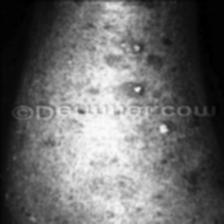Potentially Malignant Skin Tumors: (109, 82, 145, 98), (121, 39, 146, 53), (156, 120, 170, 134)
